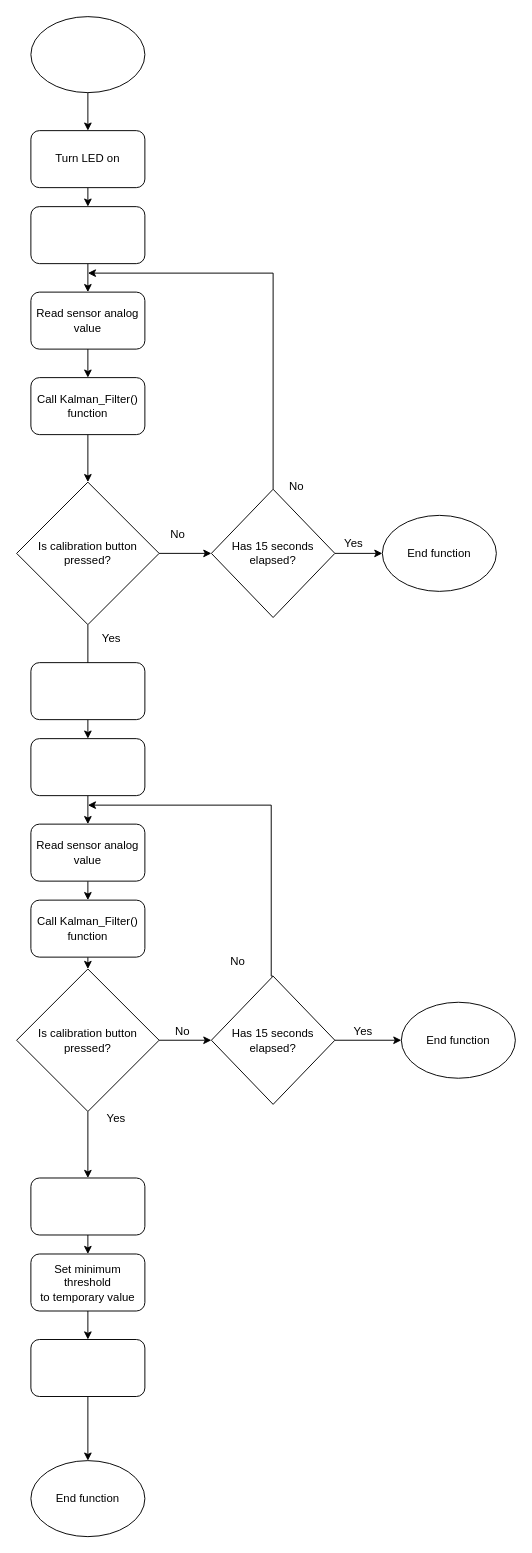
This 532x1553 diagram has some shape labels left out. Here are the shapes that lost their labels. From the top down, the centre of each, then its label:
At [87,54]: "Calibrate_Signal() function called".
At [87,235]: "Start counting".
At [87,691]: "Set temporary minimum threshold to average value in that time period".
At [87,767]: "Reset counter".
At [87,1206]: "Set maximum threshold to average value in that time period".
At [87,1367]: "Turn off LED".
